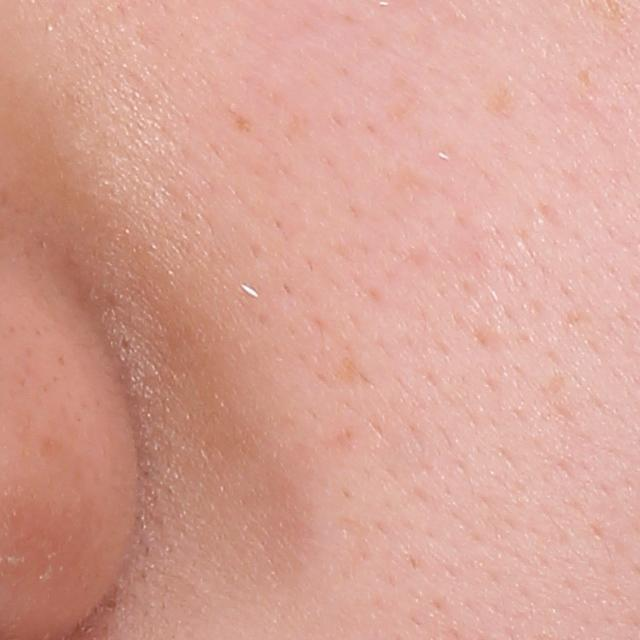melasma: (228, 108, 257, 137)
